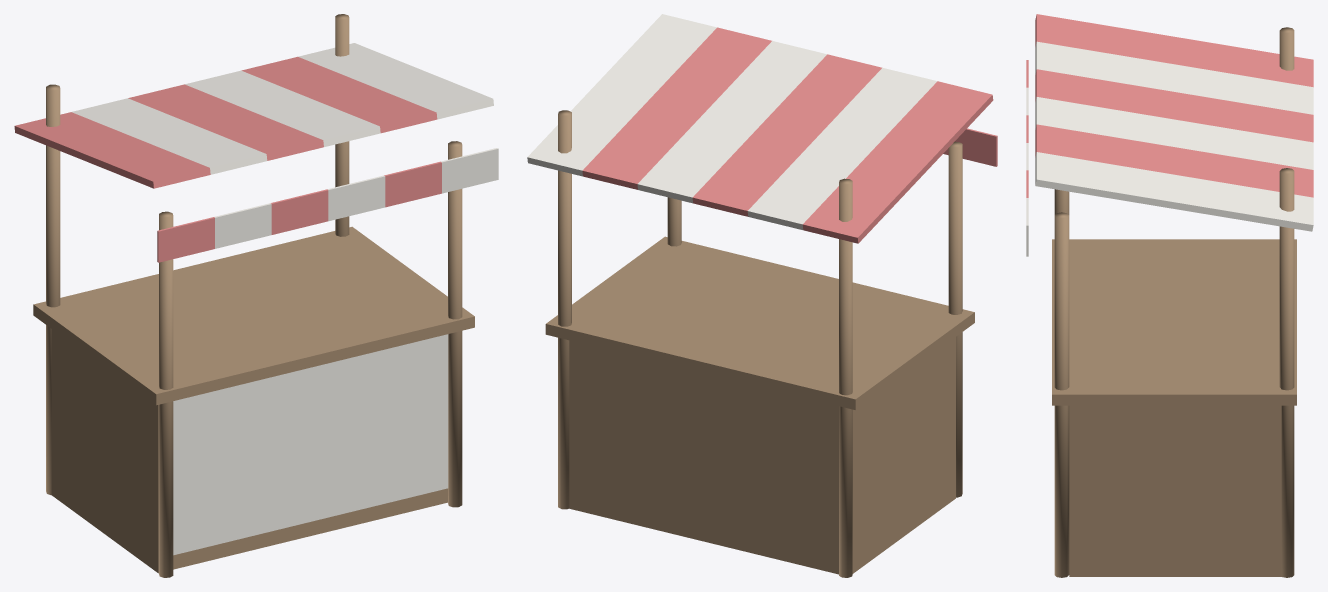
File: market-stall.glb
3 views of the same model, side by side, from view 1: azimuth 30°, elevation 25°; view 2: azimuth 150°, elevation 25°; view 3: azimuth 270°, elevation 25° (orthographic). The views are drawn at different scales.
Parts seen in each view (by area): view 1: MarketStall; view 2: MarketStall; view 3: MarketStall.
Part boxes in pixels (x1,y1,x2,y2): MarketStall: (14, 14, 498, 577); MarketStall: (527, 14, 997, 577); MarketStall: (1026, 14, 1313, 577).
Bounding box in the file's own units: 1.6 × 1.84 × 1.17.
